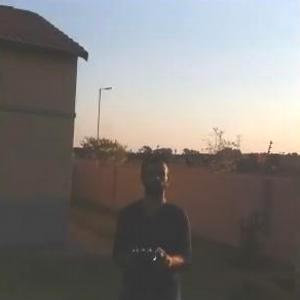follow: (108, 149, 197, 299)
